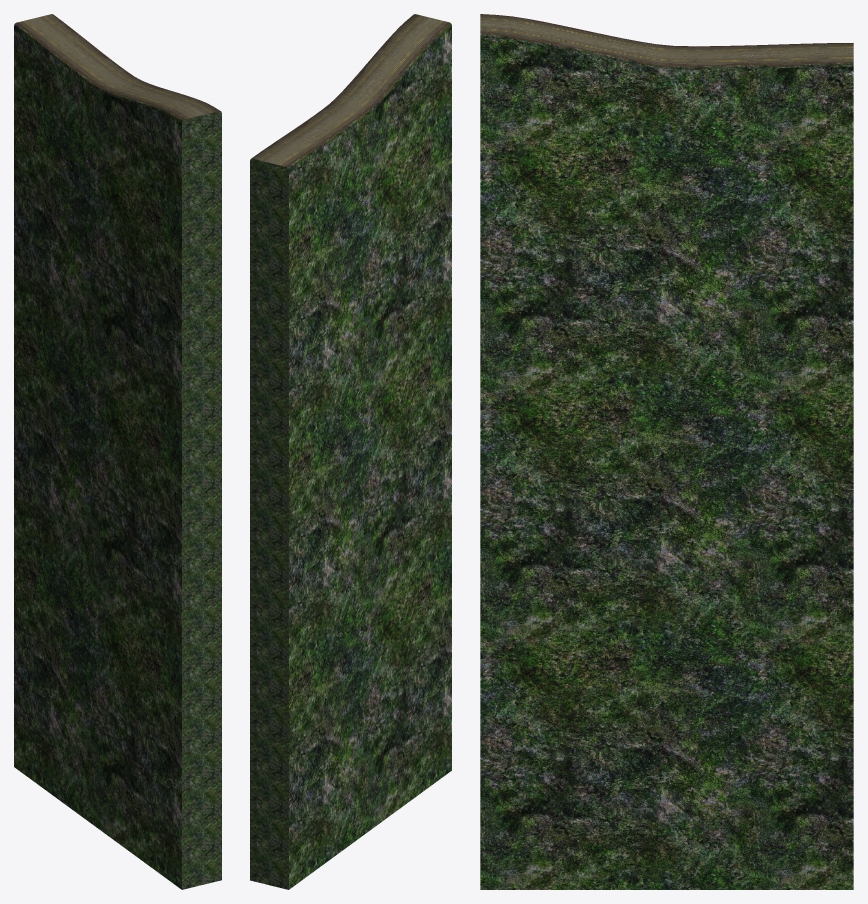
The model's file is Straith long bend down.fbx.
3 renders of one model, left to right at view 1: azimuth 30°, elevation 25°; view 2: azimuth 150°, elevation 25°; view 3: azimuth 270°, elevation 25°, orthographic. The views are drawn at different scales.
Visible parts, largest first — view 1: Straight Long bend down; view 2: Straight Long bend down; view 3: Straight Long bend down.
Part boxes in pixels (box(x1,y1,x2,y2)): Straight Long bend down: box(14, 14, 221, 889); Straight Long bend down: box(250, 14, 451, 889); Straight Long bend down: box(480, 14, 853, 889).
Size of the model in its own units: 410 by 7538 by 2982.
